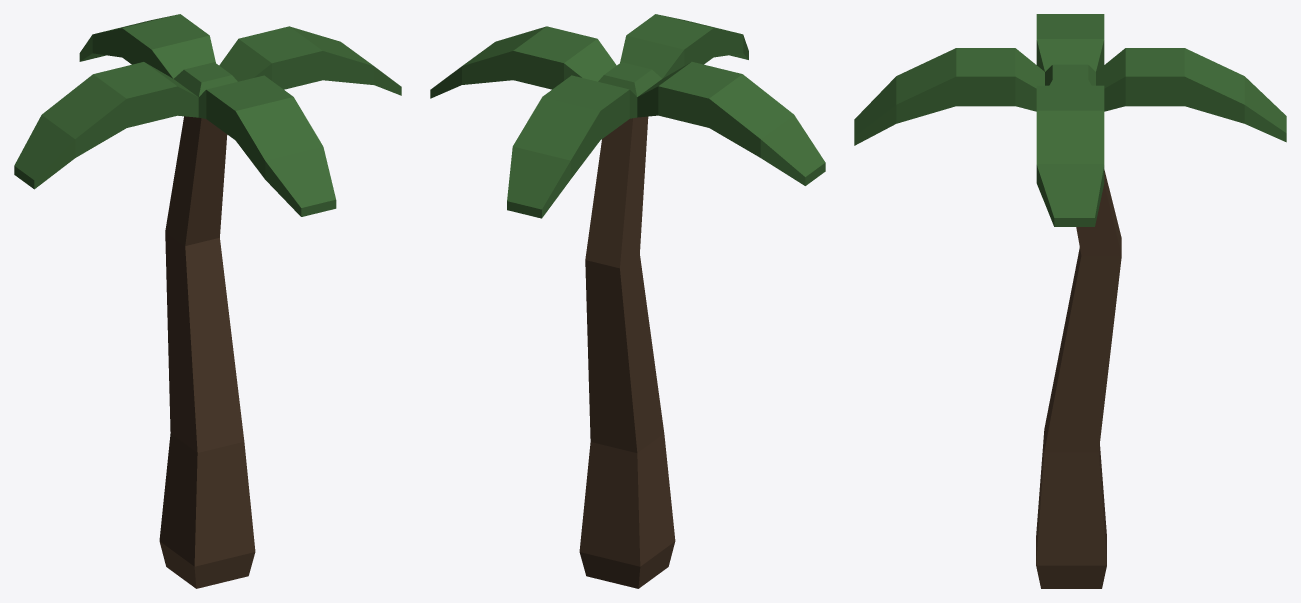
Rendered from palm-a.glb.
The picture shows the model from 3 angles, left to right: view 1: azimuth 30°, elevation 25°; view 2: azimuth 150°, elevation 25°; view 3: azimuth 270°, elevation 25°; orthographic projection.
Visible parts, largest first — view 1: tree_palmTall; view 2: tree_palmTall; view 3: tree_palmTall.
Part boxes in pixels (x1,y1,x2,y2): tree_palmTall: (14,14,401,588); tree_palmTall: (430,14,825,588); tree_palmTall: (854,14,1286,588).
Bounding box in the file's own units: 4.96 × 6.5 × 4.96.
